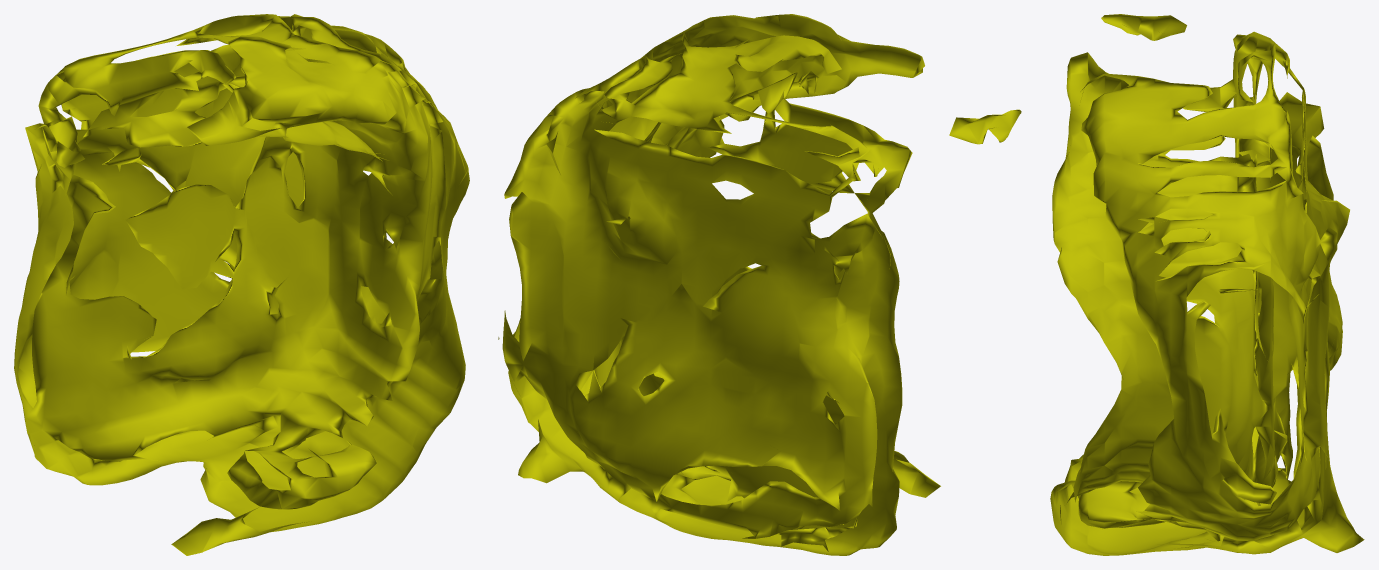
The picture shows the model from 3 angles, left to right: view 1: azimuth 30°, elevation 25°; view 2: azimuth 150°, elevation 25°; view 3: azimuth 270°, elevation 25°; orthographic projection. The views are drawn at different scales.
Parts seen in each view (by area): view 1: world; view 2: world; view 3: world.
Part boxes in pixels (box(x1,y1,x2,y2)): world: box(14, 14, 469, 555); world: box(498, 14, 1021, 555); world: box(1050, 14, 1364, 555).
Bounding box in the file's own units: 29.42 × 30.07 × 18.92.
